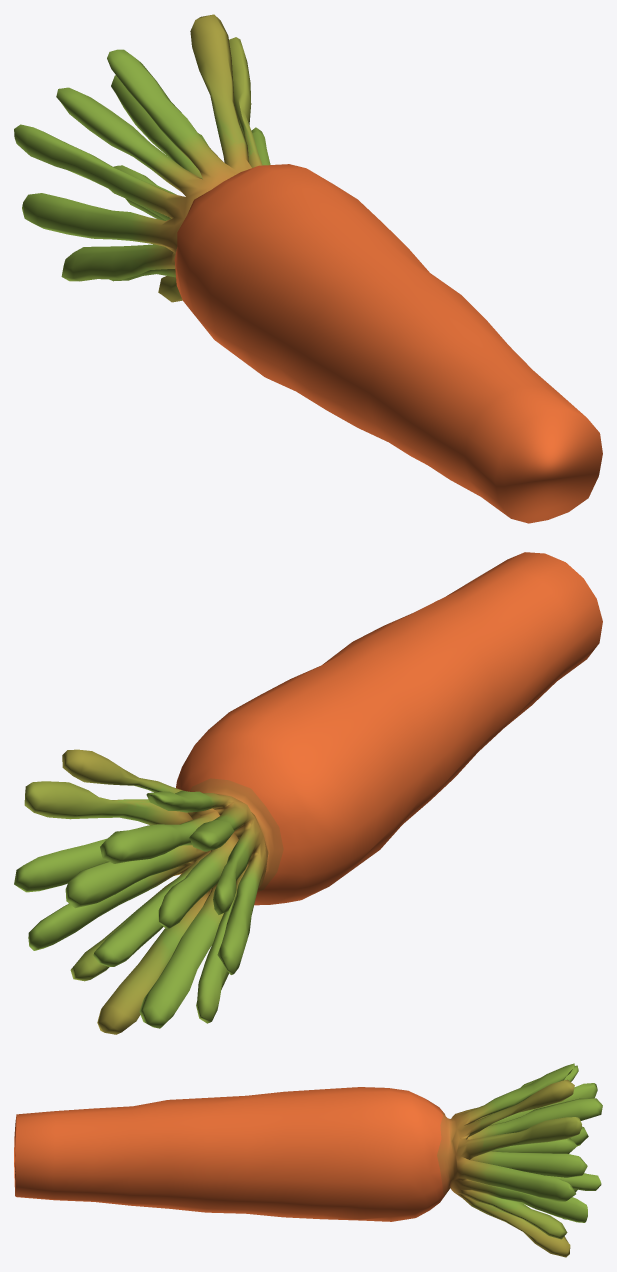
Rendered from carrot_cut2.fbx.
3 renders of one model, top to bottom at view 1: azimuth 30°, elevation 25°; view 2: azimuth 150°, elevation 25°; view 3: azimuth 270°, elevation 25°, orthographic. The views are drawn at different scales.
Visible parts, largest first — view 1: Cylinder.006; view 2: Cylinder.006; view 3: Cylinder.006.
Boxes of the visible parts, x1,y1,x2,y2 form: Cylinder.006: (14, 14, 602, 523); Cylinder.006: (14, 552, 602, 1034); Cylinder.006: (14, 1063, 602, 1257).
Size of the model in its own units: 97.88 by 112 by 320.
